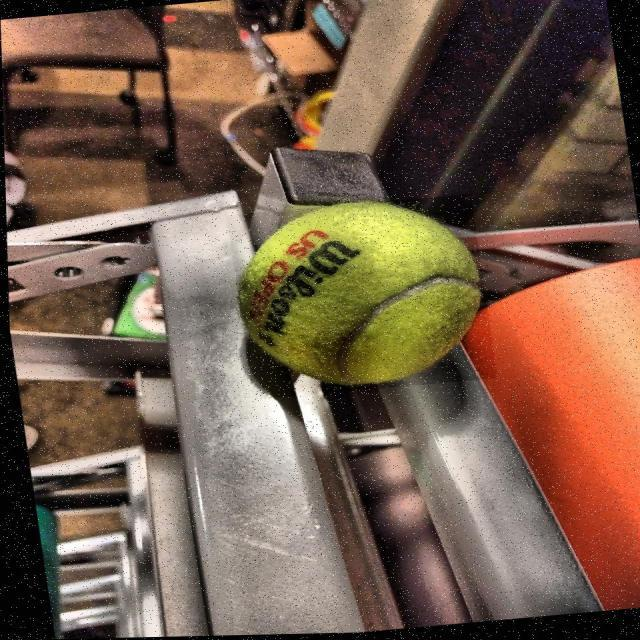tennis-ball: (224, 196, 496, 402)
